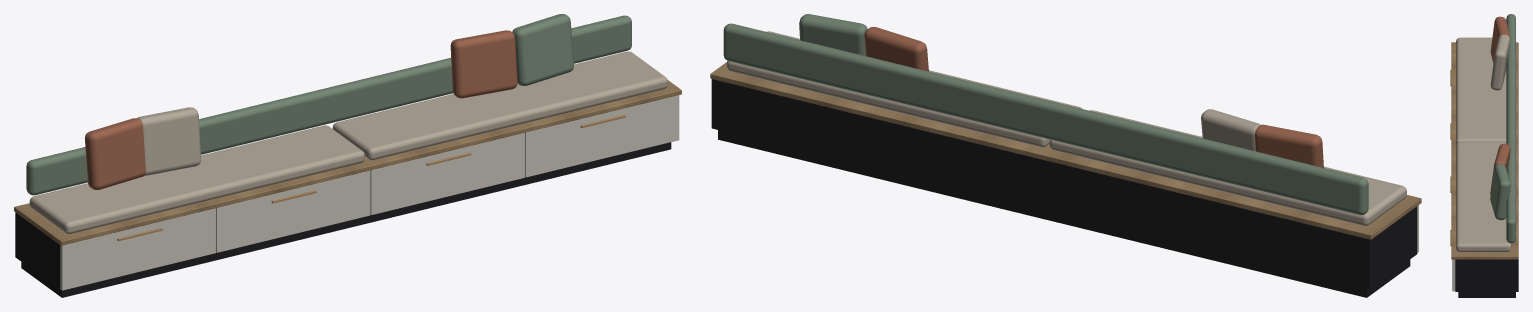
Rendered from garage_seat.gltf.
3 renders of one model, left to right at view 1: azimuth 30°, elevation 25°; view 2: azimuth 150°, elevation 25°; view 3: azimuth 270°, elevation 25°, orthographic. The views are drawn at different scales.
Visible parts, largest first — view 1: GarageSeat_Detail_Piping_Mudroom_Cream, GarageSeat_Body_Fabric_Oat, GarageSeat_Body_Fabric_Sage, GarageSeat_Detail_Piping_Fabric_Clay, GarageSeat_Body_Garage_GraphiteDark, GarageSeat_Body_Mudroom_Oak, GarageSeat_Detail_Piping_Fabric_Sage, GarageSeat_Detail_Piping_Fabric_Oat, GarageSeat_Detail_Piping_Bronze; view 2: GarageSeat_Body_Garage_GraphiteDark, GarageSeat_Body_Fabric_Sage, GarageSeat_Body_Mudroom_Oak, GarageSeat_Body_Fabric_Oat, GarageSeat_Detail_Piping_Fabric_Clay, GarageSeat_Detail_Piping_Fabric_Sage, GarageSeat_Detail_Piping_Fabric_Oat; view 3: GarageSeat_Body_Fabric_Oat, GarageSeat_Body_Garage_GraphiteDark, GarageSeat_Body_Mudroom_Oak, GarageSeat_Body_Fabric_Sage, GarageSeat_Detail_Piping_Fabric_Sage, GarageSeat_Detail_Piping_Fabric_Oat, GarageSeat_Detail_Piping_Fabric_Clay, GarageSeat_Detail_Piping_Bronze, GarageSeat_Detail_Piping_Mudroom_Cream.
Boxes of the visible parts, x1=… form: GarageSeat_Detail_Piping_Mudroom_Cream: x1=60, y1=95, x2=679, y2=290; GarageSeat_Body_Fabric_Oat: x1=29, y1=51, x2=667, y2=234; GarageSeat_Body_Fabric_Sage: x1=26, y1=15, x2=631, y2=195; GarageSeat_Detail_Piping_Fabric_Clay: x1=85, y1=30, x2=517, y2=189; GarageSeat_Body_Garage_GraphiteDark: x1=15, y1=142, x2=671, y2=297; GarageSeat_Body_Mudroom_Oak: x1=14, y1=80, x2=681, y2=245; GarageSeat_Detail_Piping_Fabric_Sage: x1=512, y1=14, x2=573, y2=85; GarageSeat_Detail_Piping_Fabric_Oat: x1=137, y1=107, x2=200, y2=175; GarageSeat_Detail_Piping_Bronze: x1=117, y1=114, x2=625, y2=241; GarageSeat_Body_Garage_GraphiteDark: x1=711, y1=79, x2=1417, y2=297; GarageSeat_Body_Fabric_Sage: x1=723, y1=23, x2=1368, y2=215; GarageSeat_Body_Mudroom_Oak: x1=710, y1=62, x2=1421, y2=239; GarageSeat_Body_Fabric_Oat: x1=726, y1=31, x2=1406, y2=225; GarageSeat_Detail_Piping_Fabric_Clay: x1=864, y1=27, x2=1323, y2=167; GarageSeat_Detail_Piping_Fabric_Sage: x1=799, y1=14, x2=867, y2=55; GarageSeat_Detail_Piping_Fabric_Oat: x1=1201, y1=109, x2=1260, y2=151; GarageSeat_Body_Fabric_Oat: x1=1456, y1=37, x2=1511, y2=252; GarageSeat_Body_Garage_GraphiteDark: x1=1455, y1=259, x2=1518, y2=297; GarageSeat_Body_Mudroom_Oak: x1=1451, y1=42, x2=1518, y2=259; GarageSeat_Body_Fabric_Sage: x1=1506, y1=14, x2=1515, y2=243; GarageSeat_Detail_Piping_Fabric_Sage: x1=1490, y1=164, x2=1510, y2=220; GarageSeat_Detail_Piping_Fabric_Oat: x1=1490, y1=34, x2=1510, y2=90; GarageSeat_Detail_Piping_Fabric_Clay: x1=1490, y1=16, x2=1510, y2=195; GarageSeat_Detail_Piping_Bronze: x1=1450, y1=70, x2=1451, y2=245; GarageSeat_Detail_Piping_Mudroom_Cream: x1=1452, y1=259, x2=1455, y2=291.
Bounding box in the file's own units: 4.22 × 0.8399 × 0.566.
7 materials, 1 textured.
